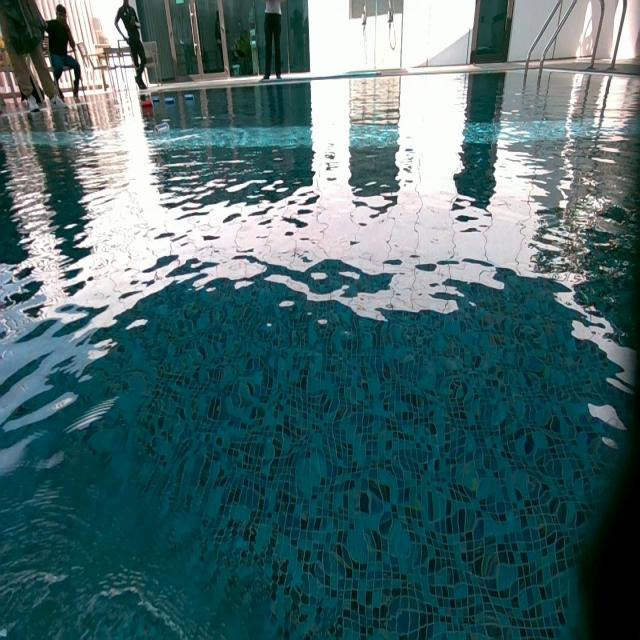Cans: (154, 124, 170, 136), (142, 101, 154, 112), (184, 94, 195, 104), (165, 94, 174, 104), (152, 96, 159, 104)
